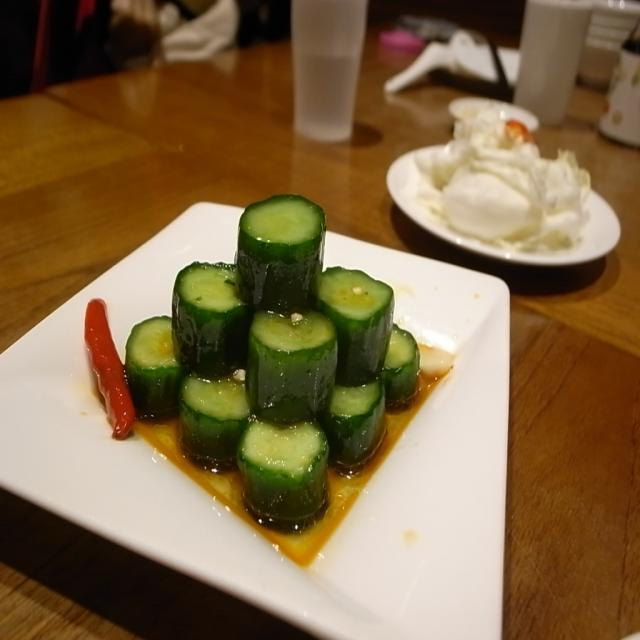Cucumber: (127, 192, 423, 526), (377, 324, 422, 406)
